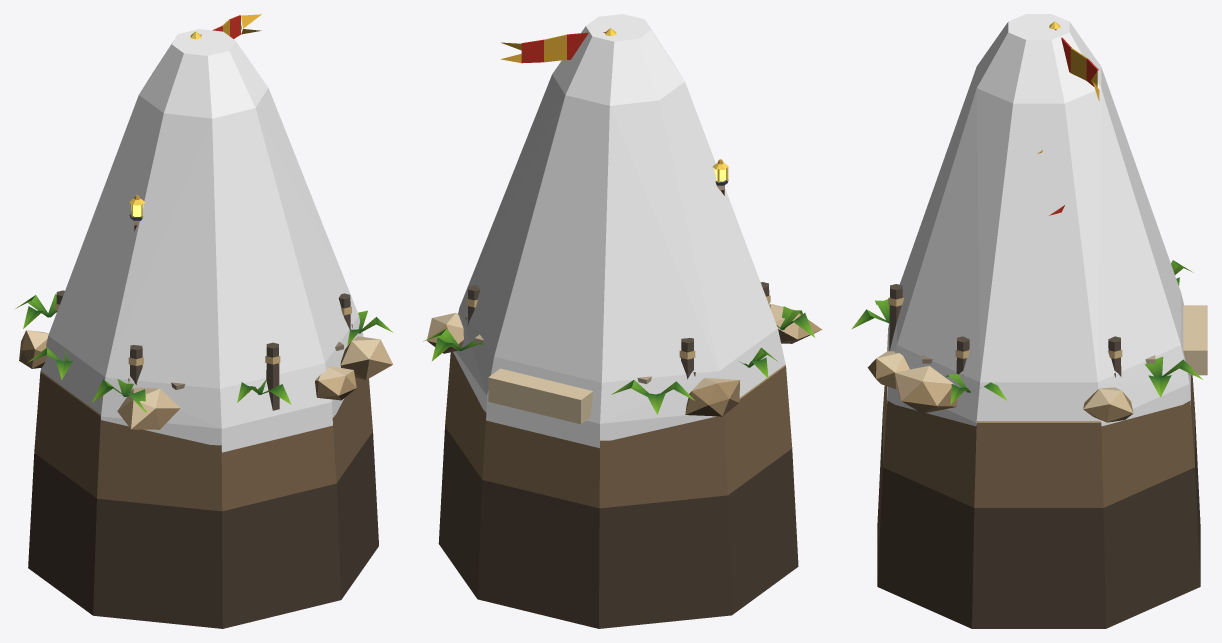
File: coastal_smuggler_signal_tripod.glb
3 views of the same model, side by side, from view 1: azimuth 30°, elevation 25°; view 2: azimuth 150°, elevation 25°; view 3: azimuth 270°, elevation 25° (orthographic). The views are drawn at different scales.
Visible parts, largest first — view 1: col_signaltripod_base, coastal_smuggler_signal_tripod; view 2: col_signaltripod_base, coastal_smuggler_signal_tripod; view 3: col_signaltripod_base, coastal_smuggler_signal_tripod.
Part boxes in pixels (x1=…): col_signaltripod_base: x1=40, y1=29, x2=363, y2=452; coastal_smuggler_signal_tripod: x1=15, y1=14, x2=393, y2=628; col_signaltripod_base: x1=453, y1=14, x2=785, y2=448; coastal_smuggler_signal_tripod: x1=423, y1=28, x2=822, y2=628; col_signaltripod_base: x1=887, y1=14, x2=1190, y2=426; coastal_smuggler_signal_tripod: x1=851, y1=21, x2=1207, y2=628.
Size of the model in its own units: 4.64 by 7.46 by 4.5.
